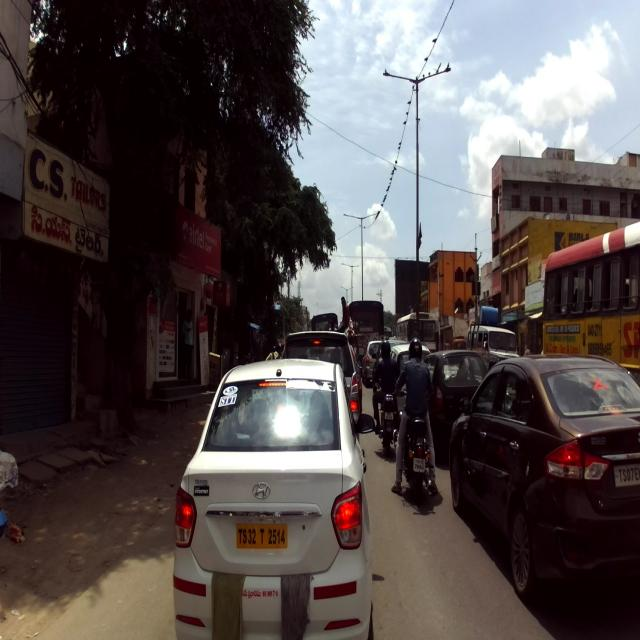Car_Hyundai: (171, 355, 373, 639)
Car_Maruti-Suzuki: (449, 351, 640, 600), (416, 349, 487, 460)
Car_Toyota: (276, 329, 361, 452)
bus: (541, 221, 640, 406)
motorcycle_Hero: (372, 372, 399, 453)
motorcycle_RoyalEnfield: (391, 384, 436, 504)
